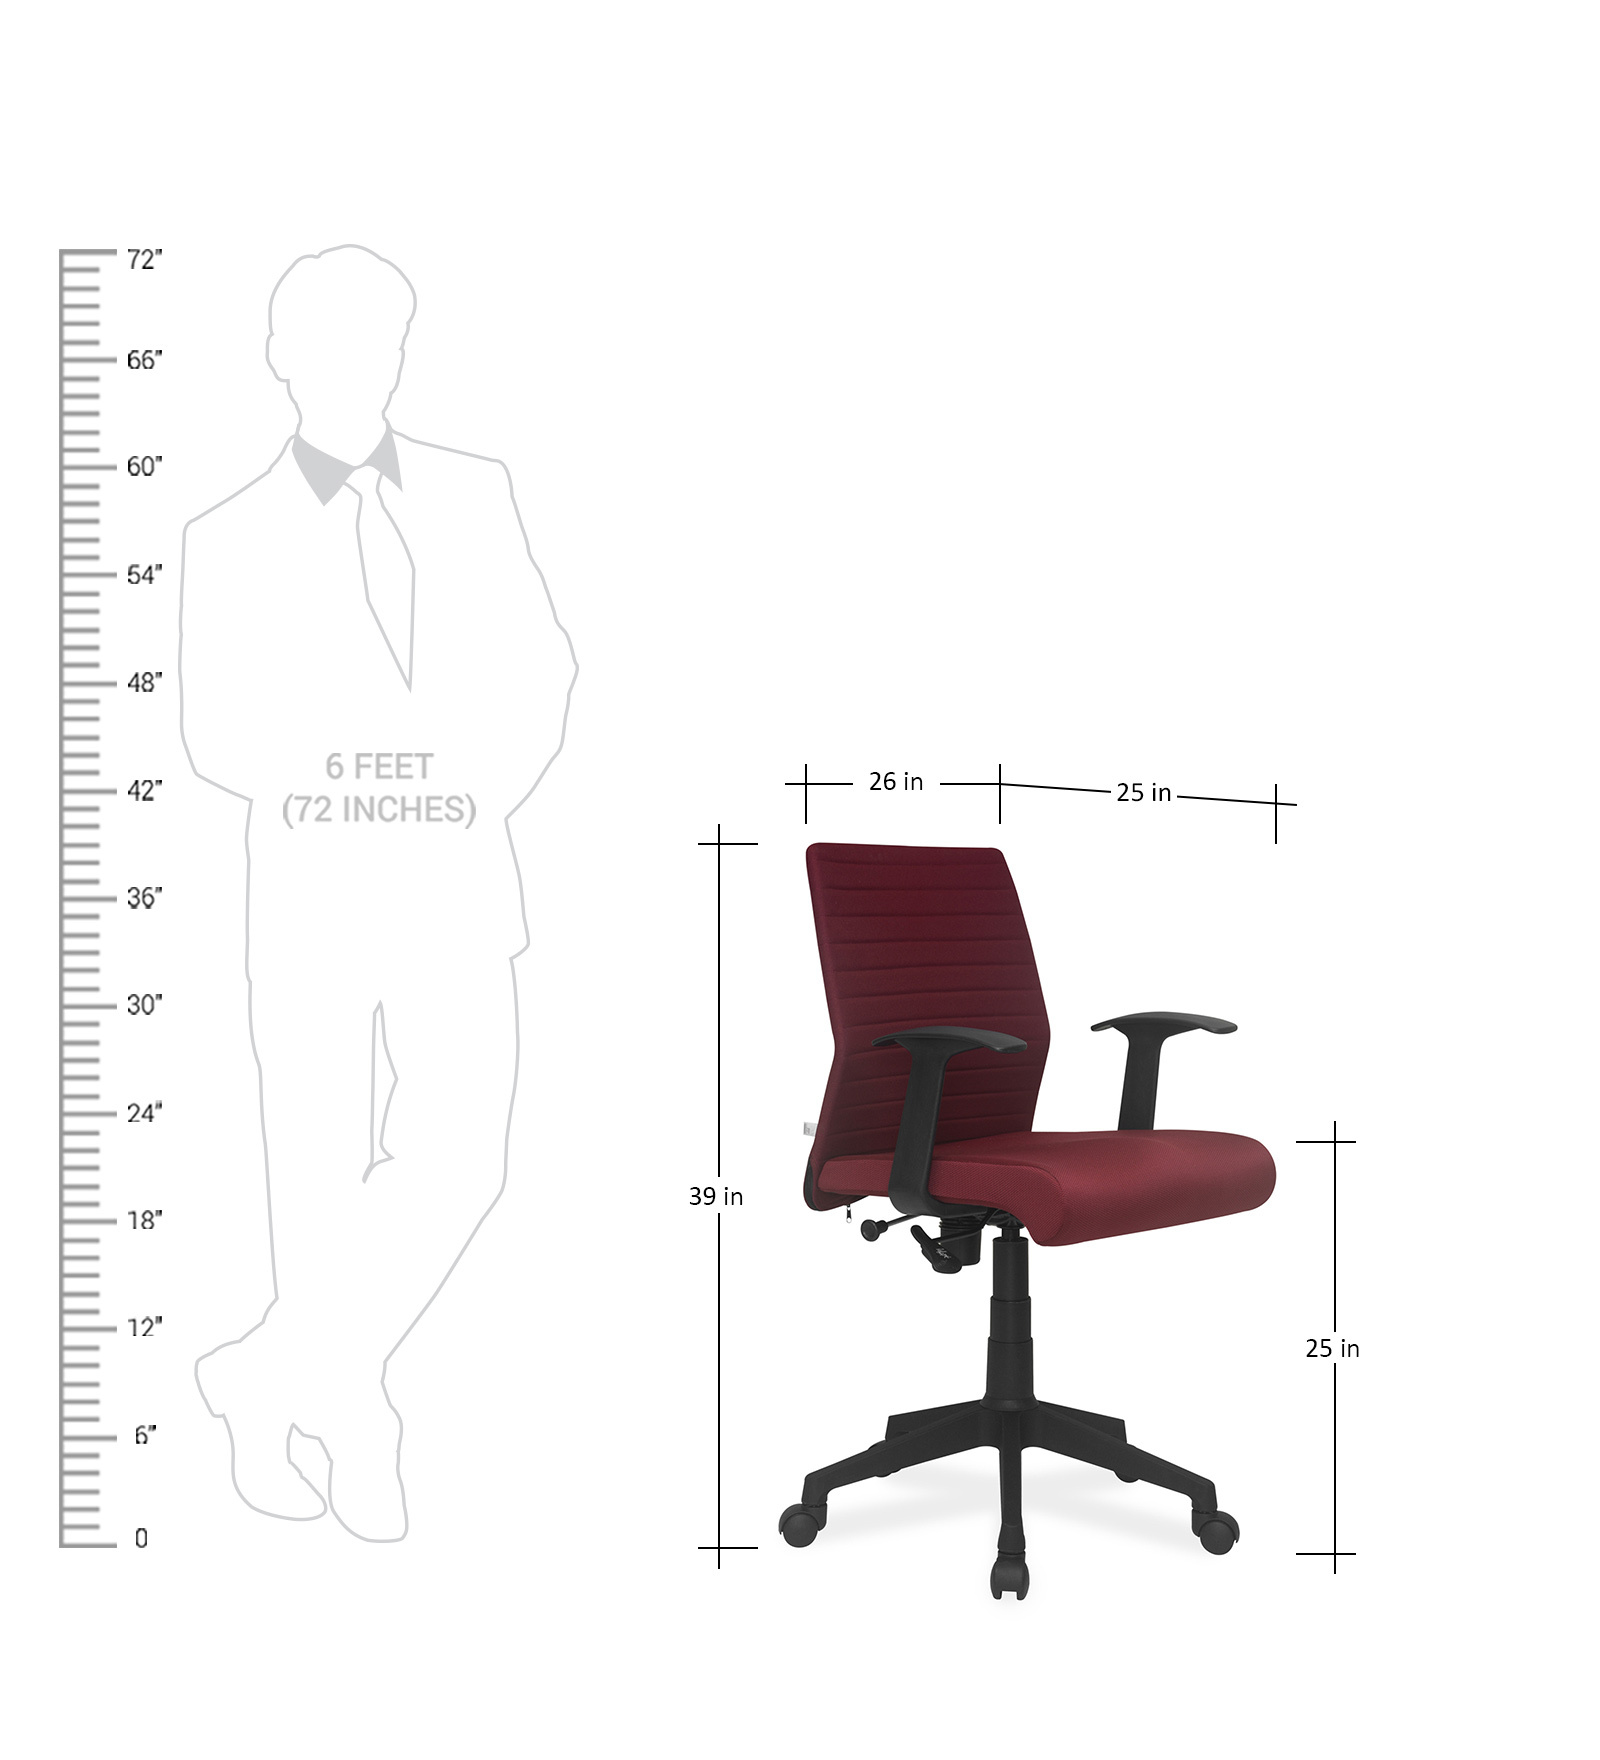Thames Low Back Ergonomic Chair in Maroon Colour by Nilkamal: (774, 816, 1264, 1619)
